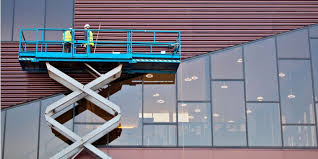Scissor Lift: (18, 27, 184, 159)
